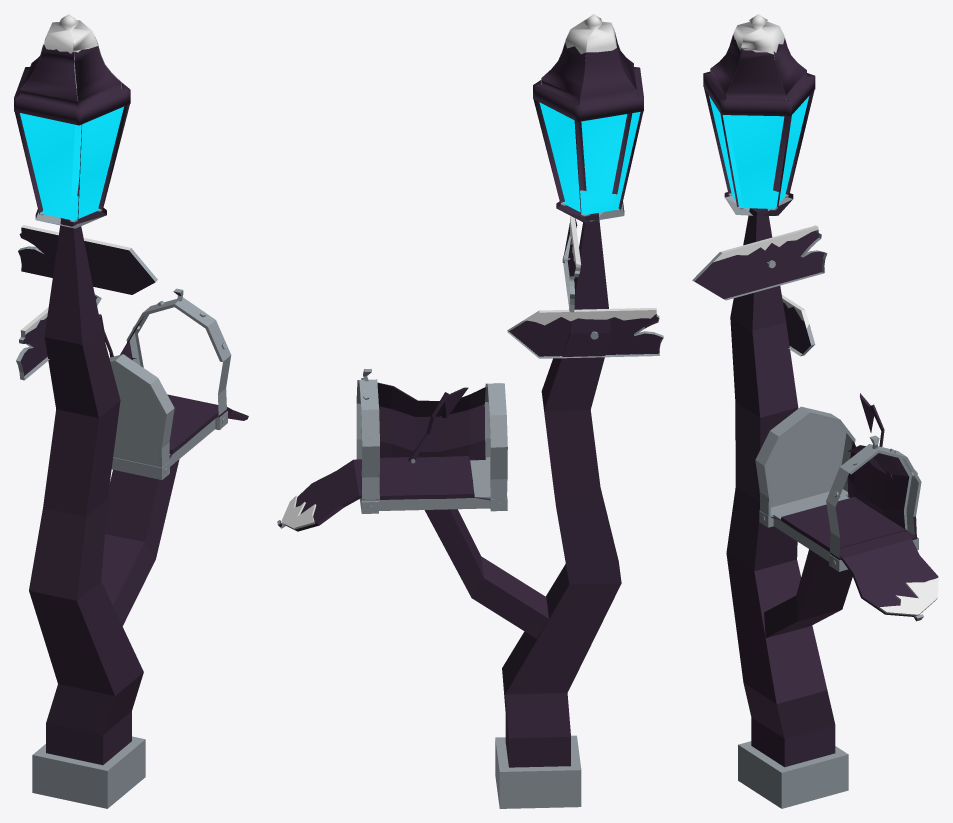
File: LetterBox.glb
3 views of the same model, side by side, from view 1: azimuth 30°, elevation 25°; view 2: azimuth 150°, elevation 25°; view 3: azimuth 270°, elevation 25° (orthographic). The views are drawn at different scales.
Parts seen in each view (by area): view 1: Letterbox.001; view 2: Letterbox.001; view 3: Letterbox.001.
Boxes of the visible parts, bbox=[...] form: Letterbox.001: bbox=[14, 14, 248, 808]; Letterbox.001: bbox=[277, 14, 663, 808]; Letterbox.001: bbox=[692, 14, 938, 808].
Size of the model in its own units: 4.56 by 11.27 by 3.34.
